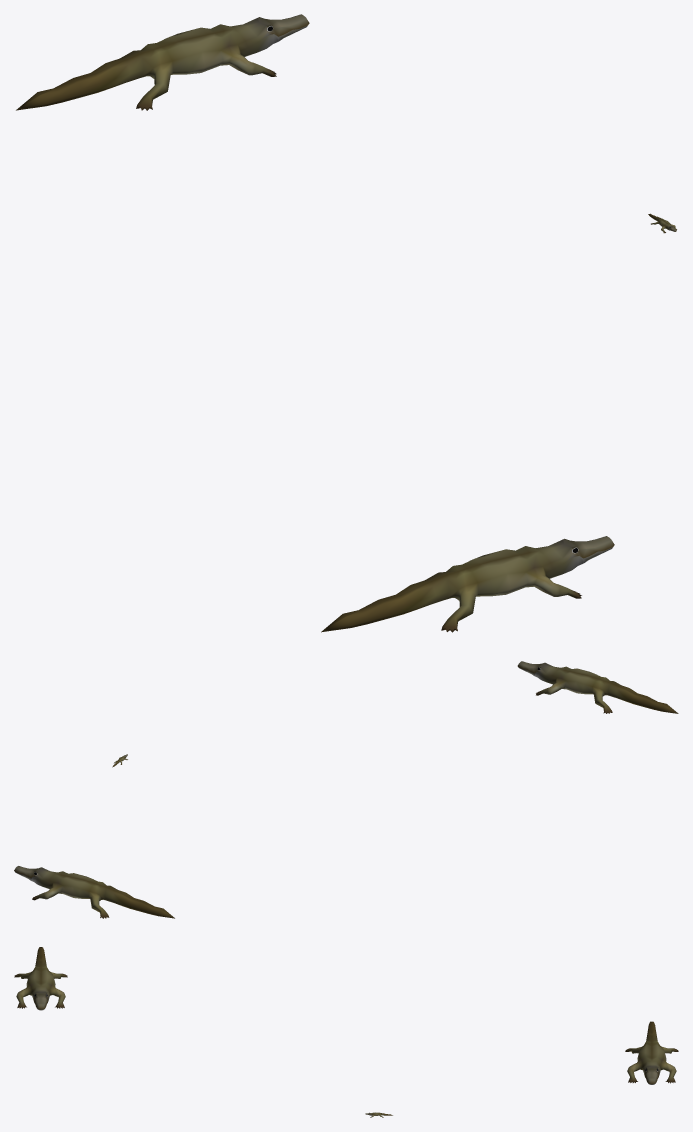
File: gator.glb
3 renders of one model, top to bottom at view 1: azimuth 30°, elevation 25°; view 2: azimuth 150°, elevation 25°; view 3: azimuth 270°, elevation 25°, orthographic. The views are drawn at different scales.
Visible parts, largest first — view 1: base.116 (×2); view 2: base.116 (×2); view 3: base.116 (×2).
Part boxes in pixels (x1,y1,x2,y2): base.116 (×2): (16, 14, 614, 632); base.116 (×2): (14, 661, 678, 918); base.116 (×2): (14, 947, 678, 1084).
Size of the model in its own units: 76.76 by 4.06 by 129.
